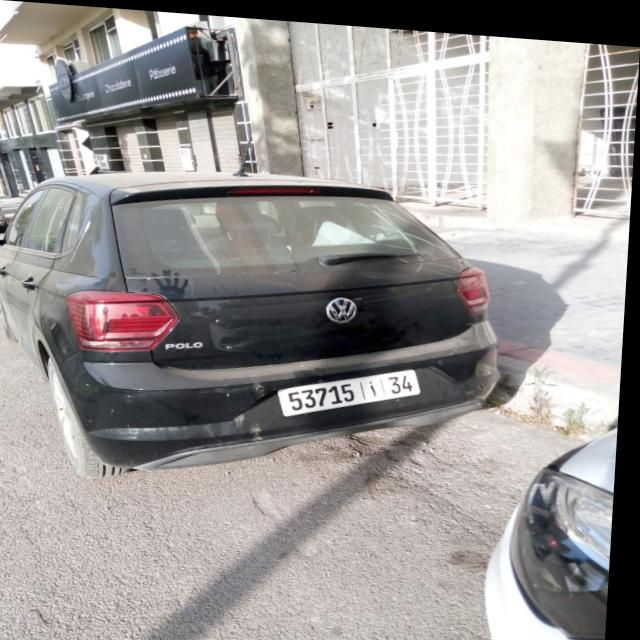License-Plate: (283, 363, 425, 412)
